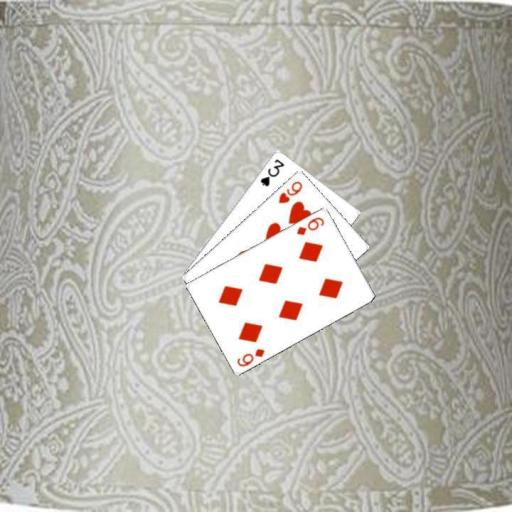card-corner: (257, 156, 286, 188), (275, 177, 304, 205), (294, 213, 326, 237), (234, 345, 266, 368)
